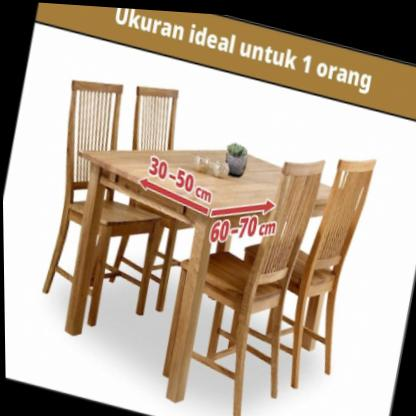Dining Table: (11, 55, 397, 416)
